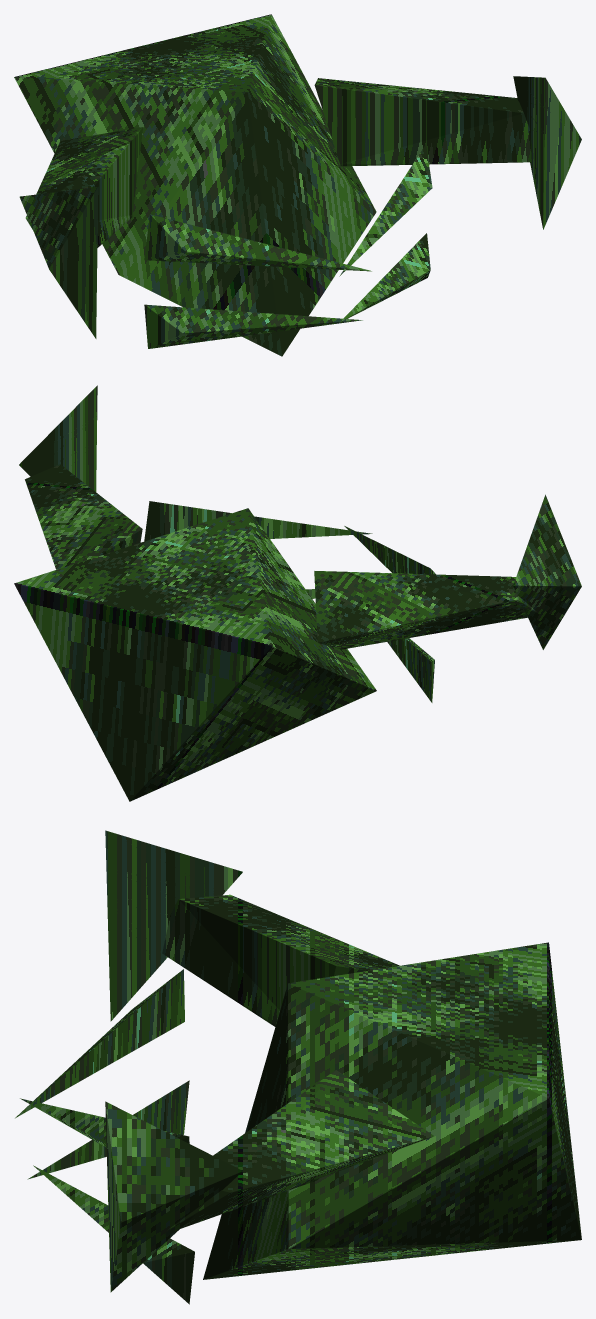
File: model_029_robot_noname.glb
The picture shows the model from 3 angles, top to bottom: view 1: azimuth 30°, elevation 25°; view 2: azimuth 150°, elevation 25°; view 3: azimuth 270°, elevation 25°; orthographic projection. The views are drawn at different scales.
Visible parts, largest first — view 1: model_029; view 2: model_029; view 3: model_029.
Boxes of the visible parts, <box> form: model_029: <box>14,14,581,356</box>; model_029: <box>14,385,581,801</box>; model_029: <box>15,830,581,1304</box>.
Size of the model in its own units: 7.67 by 3.48 by 5.7.
1 material, 1 textured.
